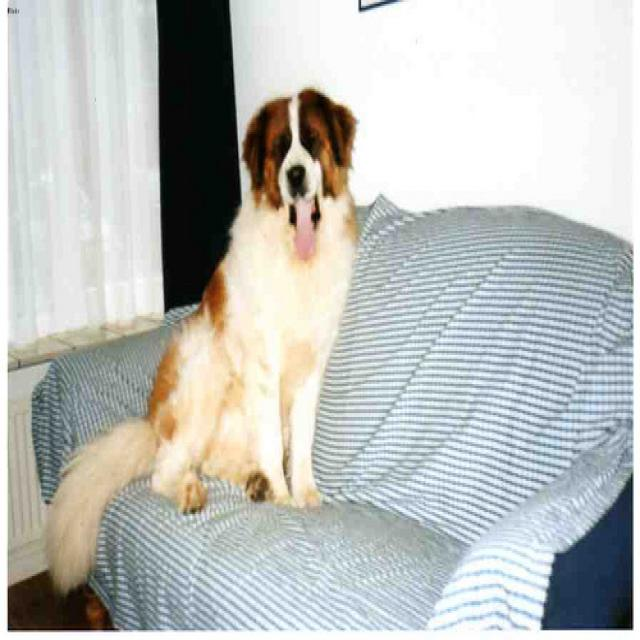dog-saint_bernard: (37, 74, 366, 607)
